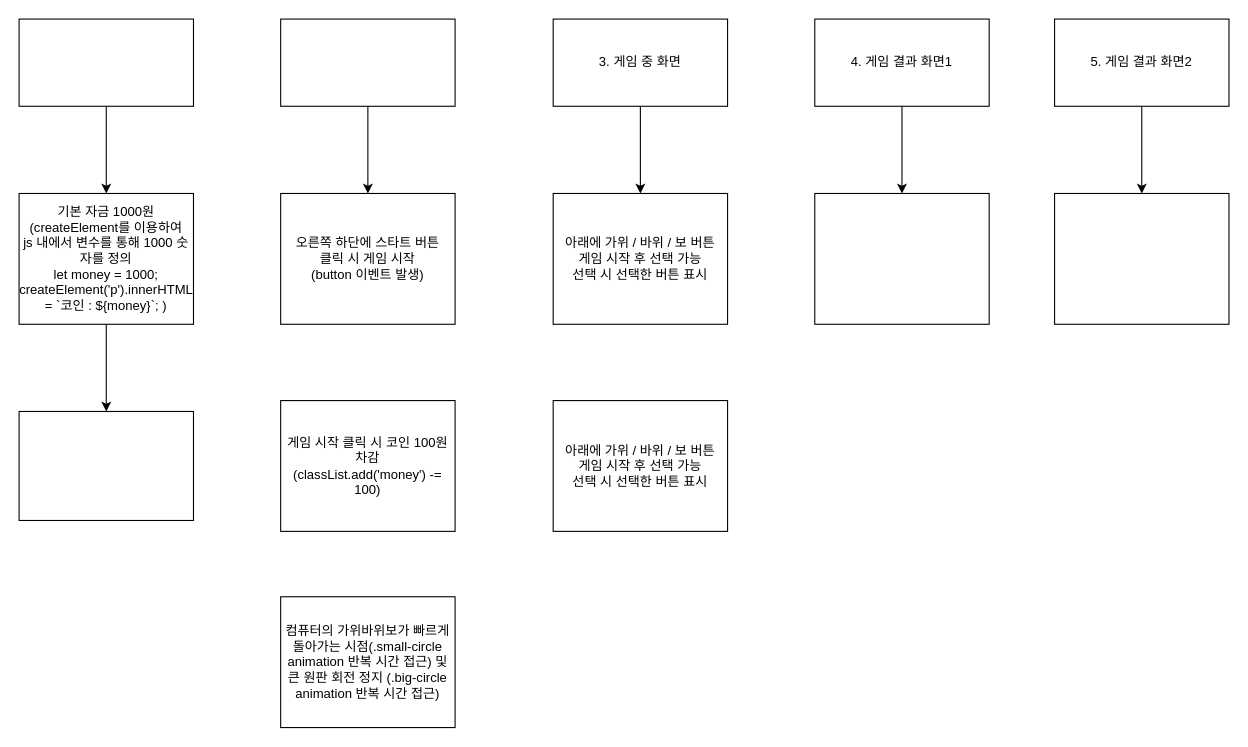
Some shapes in this 1248 by 747 pixel diagram are drawn without their labels. The shapes that lost their labels are listed below. From the top down, each one's centre as x and y in pixels, then its label:
At pixel 105 62: "1. 게임 대기 화면".
At pixel 367 62: "2. 시작할 때 화면".
At pixel 901 258: "이겼는지 졌는지 비겼는지 표시".
At pixel 1141 258: "이겼을 시 코인 갯수가 빙글빙글 빠르게 회전 천천히 멈춤 걸리는 만큼 코인 추가".
At pixel 105 465: "사람이 선택하기 전까지 컴퓨터의 선택 창이 계속 바뀜 (animation을 통해 img 간에 3초 무한 반복 변화)".
